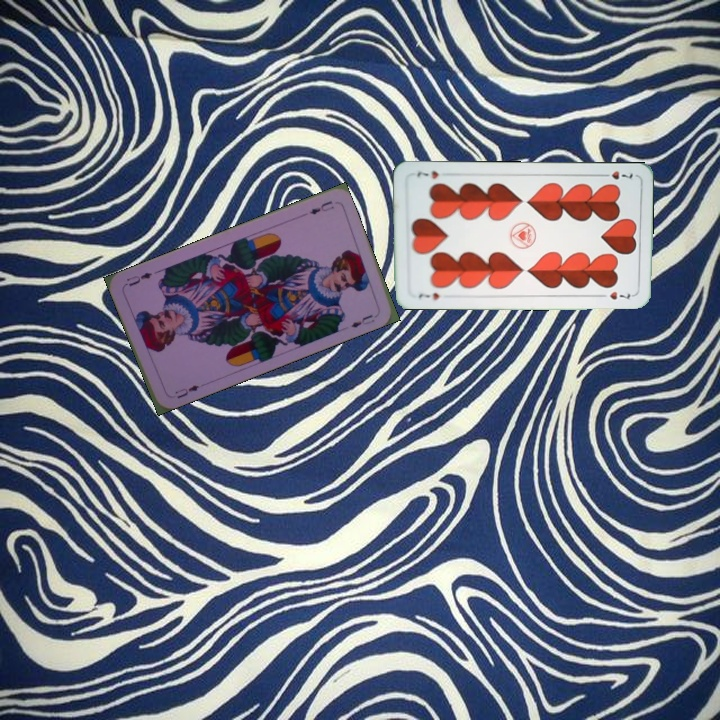EU: (170, 381, 202, 401), (305, 197, 337, 217)
H7: (596, 167, 635, 182), (415, 289, 442, 303)
